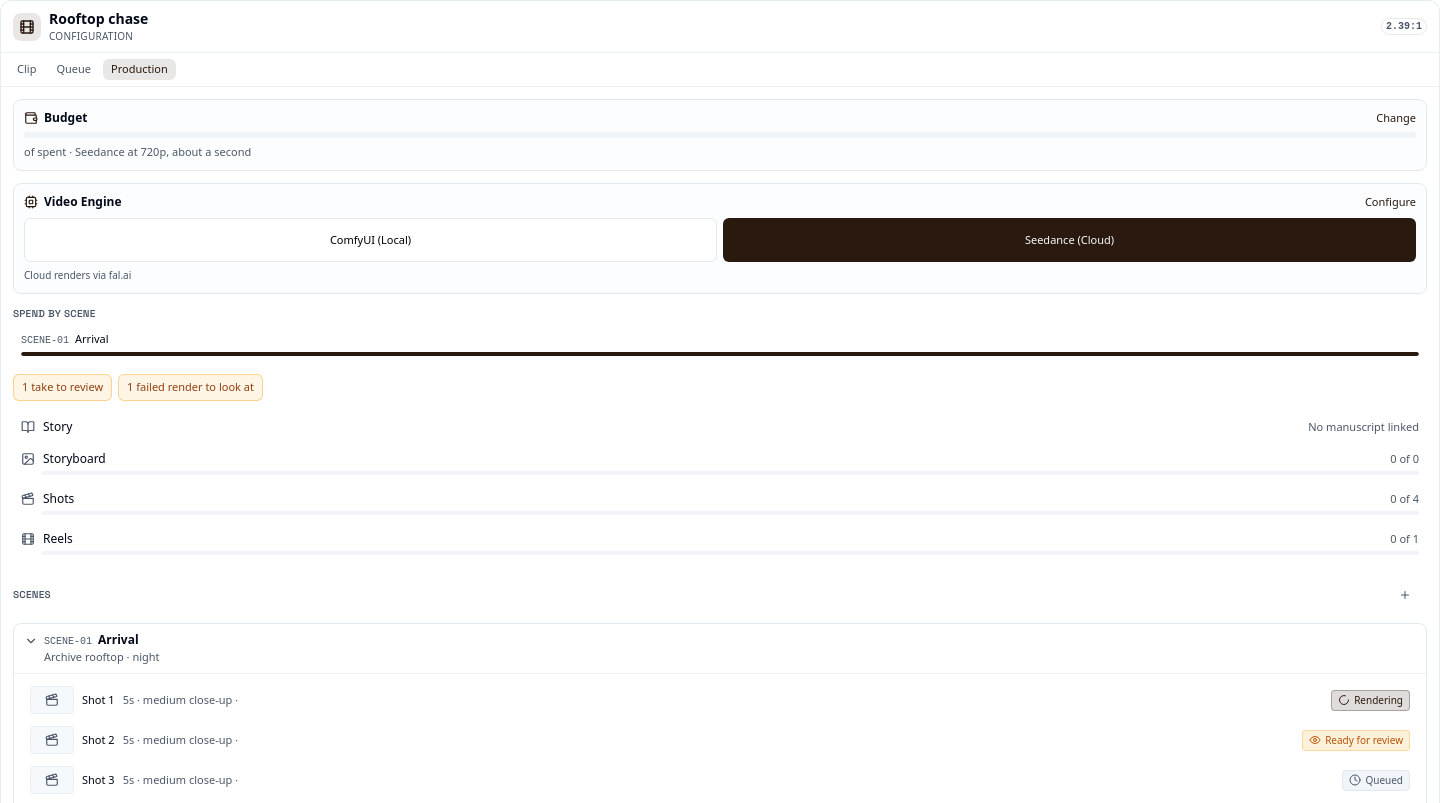
Test: MediaConfigurationRail › shows what the production is waiting on, with progress only where a render reported it
Click the tab with test id "media-rail-tab-queue". click: [74, 69]
box: x1=48 y1=59 x2=99 y2=80
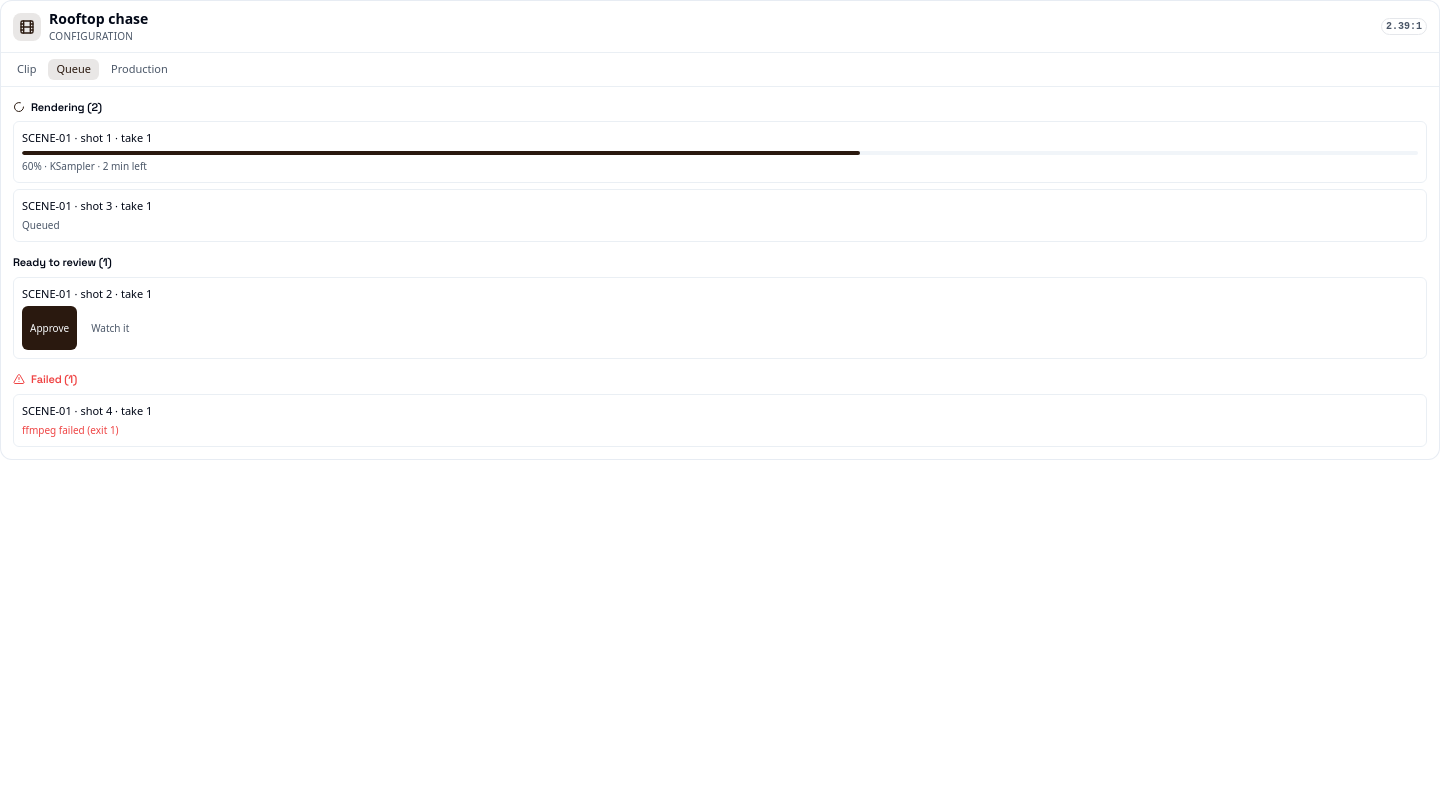
Result: the list with test id "render-queue-rendering" shows "60% · KSampler · 2 min left" at x1=13 y1=121 x2=1427 y2=242
Result: the list with test id "render-queue-rendering" shows "Queued" at x1=22 y1=218 x2=60 y2=232
Result: the list with test id "render-queue-review" shows "shot 2 · take 1" at x1=13 y1=276 x2=1427 y2=359
